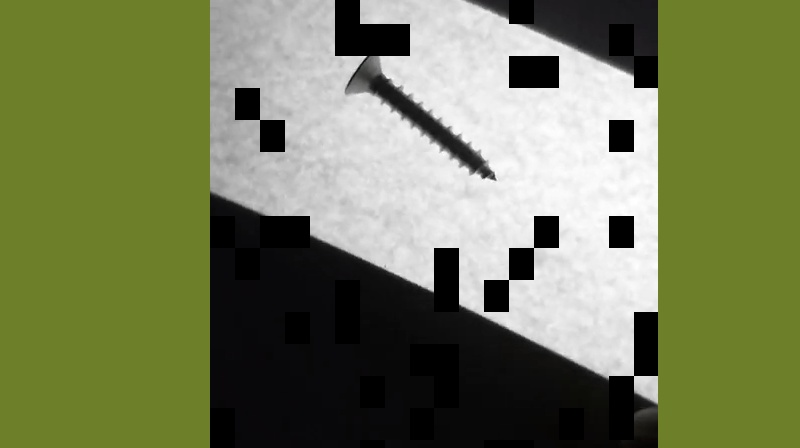S001: (340, 45, 501, 186)
